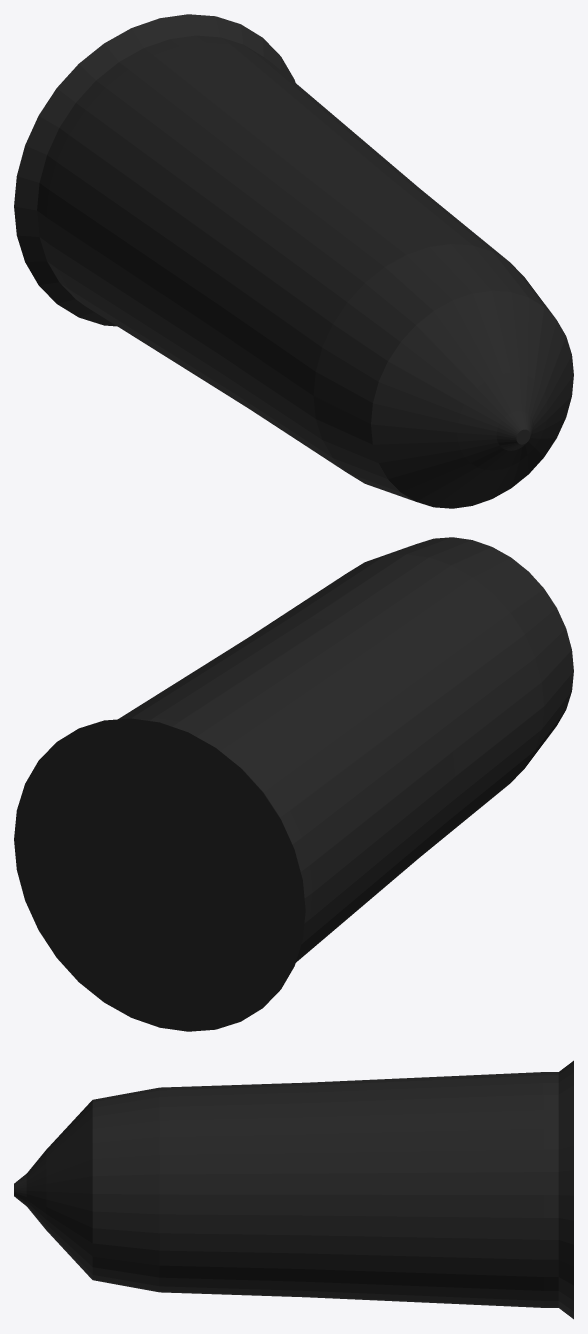
The model's file is Bullet.fbx.
3 views of the same model, one above another, from view 1: azimuth 30°, elevation 25°; view 2: azimuth 150°, elevation 25°; view 3: azimuth 270°, elevation 25° (orthographic). The views are drawn at different scales.
Visible parts, largest first — view 1: Bullet; view 2: Bullet; view 3: Bullet.
Part boxes in pixels (x1=…): Bullet: x1=14, y1=14, x2=573, y2=508; Bullet: x1=14, y1=537, x2=573, y2=1031; Bullet: x1=14, y1=1060, x2=573, y2=1319.
Bounding box in the file's own units: 0.4237 × 0.9147 × 0.4237.
